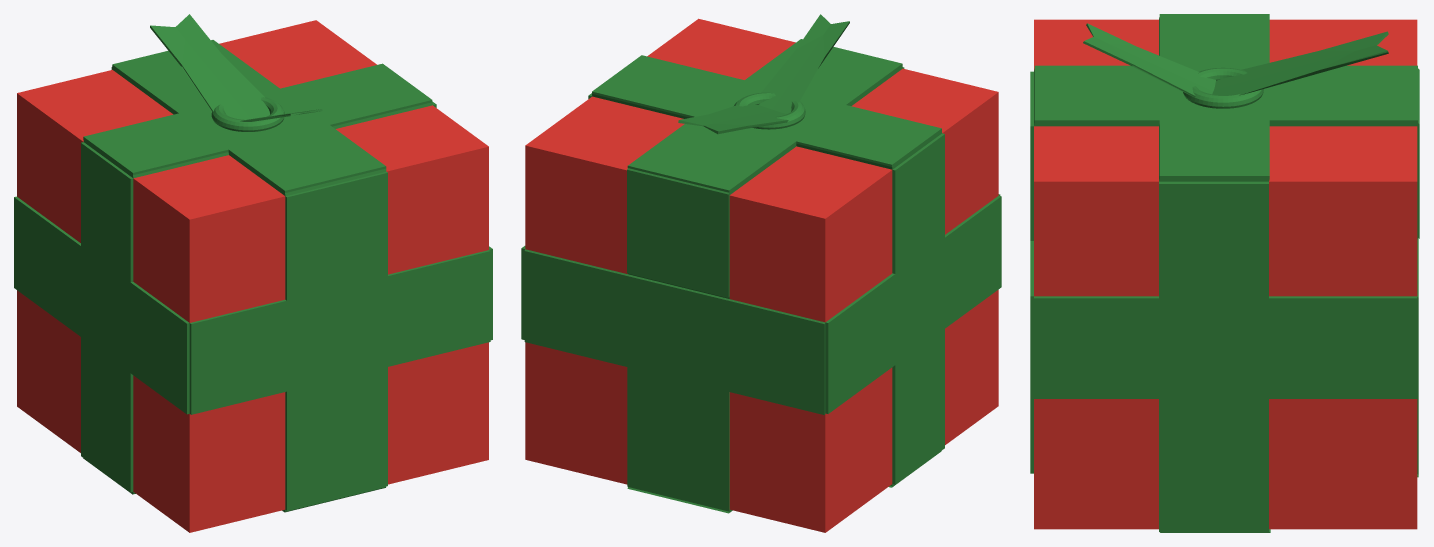
Rendered from GreenGift.fbx.
The picture shows the model from 3 angles, left to right: view 1: azimuth 30°, elevation 25°; view 2: azimuth 150°, elevation 25°; view 3: azimuth 270°, elevation 25°; orthographic projection. The views are drawn at different scales.
Parts seen in each view (by area): view 1: Cube.004, Cube.003, Cube.006, Torus; view 2: Cube.004, Cube.003, Cube.005, Cube.006, Torus; view 3: Cube.004, Cube.003, Cube.006, Cube.005, Torus.
Part boxes in pixels (x1,y1,x2,y2): Cube.004: [14, 40, 492, 512]; Cube.003: [17, 20, 488, 532]; Cube.006: [150, 14, 269, 119]; Torus: [211, 97, 284, 131]; Cube.004: [521, 39, 1001, 513]; Cube.003: [525, 18, 998, 532]; Cube.005: [758, 14, 849, 113]; Cube.006: [678, 104, 788, 134]; Torus: [734, 92, 805, 129]; Cube.004: [1030, 14, 1419, 532]; Cube.003: [1034, 19, 1417, 529]; Cube.006: [1212, 31, 1388, 95]; Cube.005: [1083, 23, 1215, 96]; Torus: [1183, 67, 1263, 108].
Size of the model in its own units: 110 by 128 by 109.
